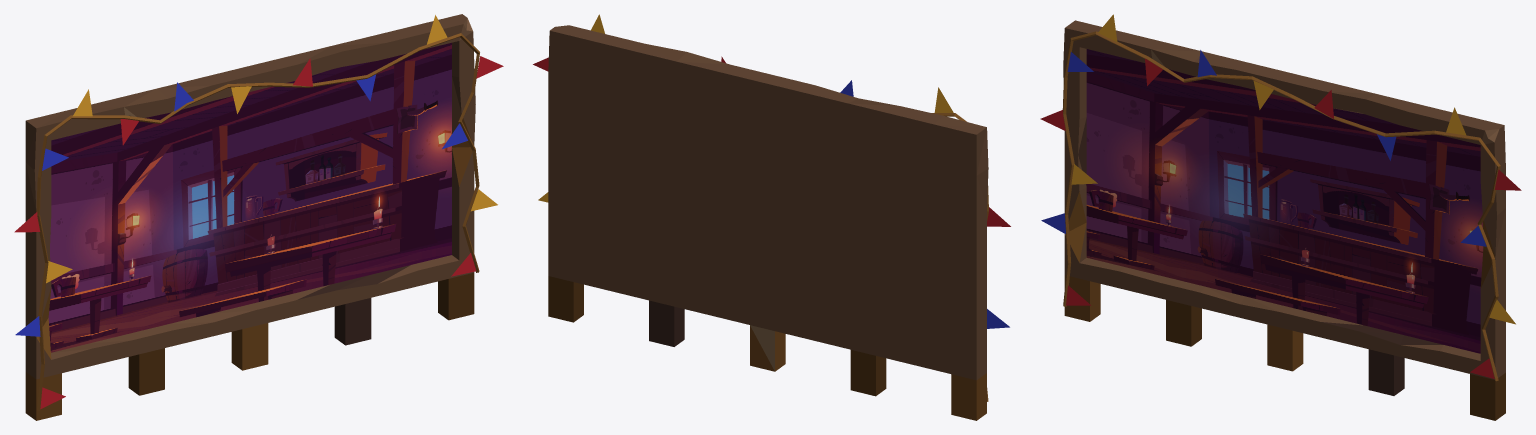
Rendered from Billboard.fbx.
3 views of the same model, side by side, from view 1: azimuth 30°, elevation 25°; view 2: azimuth 150°, elevation 25°; view 3: azimuth 330°, elevation 25° (orthographic). The views are drawn at different scales.
Parts seen in each view (by area): view 1: Billboard; view 2: Billboard; view 3: Billboard.
Boxes of the visible parts, x1=… form: Billboard: x1=14, y1=14, x2=503, y2=420; Billboard: x1=533, y1=14, x2=1010, y2=420; Billboard: x1=1040, y1=14, x2=1521, y2=420.
Size of the model in its own units: 1063 by 664 by 55.35.
